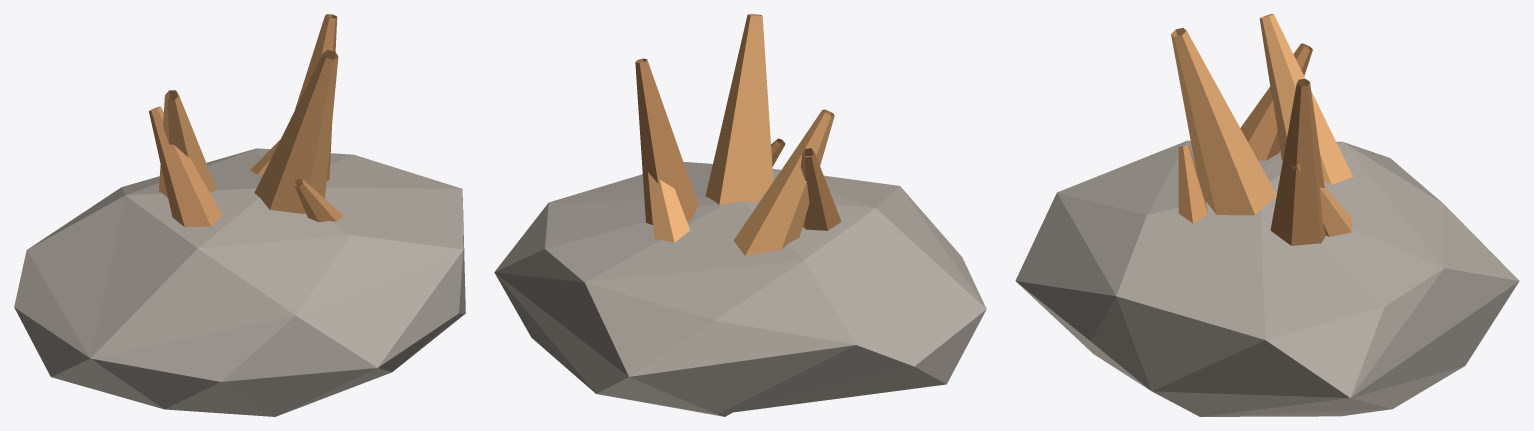
Rendered from 15-Recursos_veta_cobre.glb.
3 renders of one model, left to right at view 1: azimuth 30°, elevation 25°; view 2: azimuth 150°, elevation 25°; view 3: azimuth 270°, elevation 25°, orthographic. The views are drawn at different scales.
Parts seen in each view (by area): view 1: SM_Roca_M_Roca_Cobre, SM_Roca_M_Cristal_Cobre, SM_Roca_M_Cristal_Cobre_Oscuro; view 2: SM_Roca_M_Roca_Cobre, SM_Roca_M_Cristal_Cobre, SM_Roca_M_Cristal_Cobre_Oscuro; view 3: SM_Roca_M_Roca_Cobre, SM_Roca_M_Cristal_Cobre, SM_Roca_M_Cristal_Cobre_Oscuro.
Part boxes in pixels (x1=…): SM_Roca_M_Roca_Cobre: x1=14, y1=148, x2=465, y2=416; SM_Roca_M_Cristal_Cobre: x1=158, y1=50, x2=338, y2=213; SM_Roca_M_Cristal_Cobre_Oscuro: x1=149, y1=14, x2=343, y2=227; SM_Roca_M_Roca_Cobre: x1=494, y1=162, x2=986, y2=416; SM_Roca_M_Cristal_Cobre: x1=648, y1=14, x2=834, y2=255; SM_Roca_M_Cristal_Cobre_Oscuro: x1=635, y1=58, x2=841, y2=230; SM_Roca_M_Roca_Cobre: x1=1015, y1=140, x2=1519, y2=416; SM_Roca_M_Cristal_Cobre: x1=1171, y1=14, x2=1353, y2=236; SM_Roca_M_Cristal_Cobre_Oscuro: x1=1178, y1=43, x2=1325, y2=245.
Bounding box in the file's own units: 2.78 × 2.09 × 2.67.
